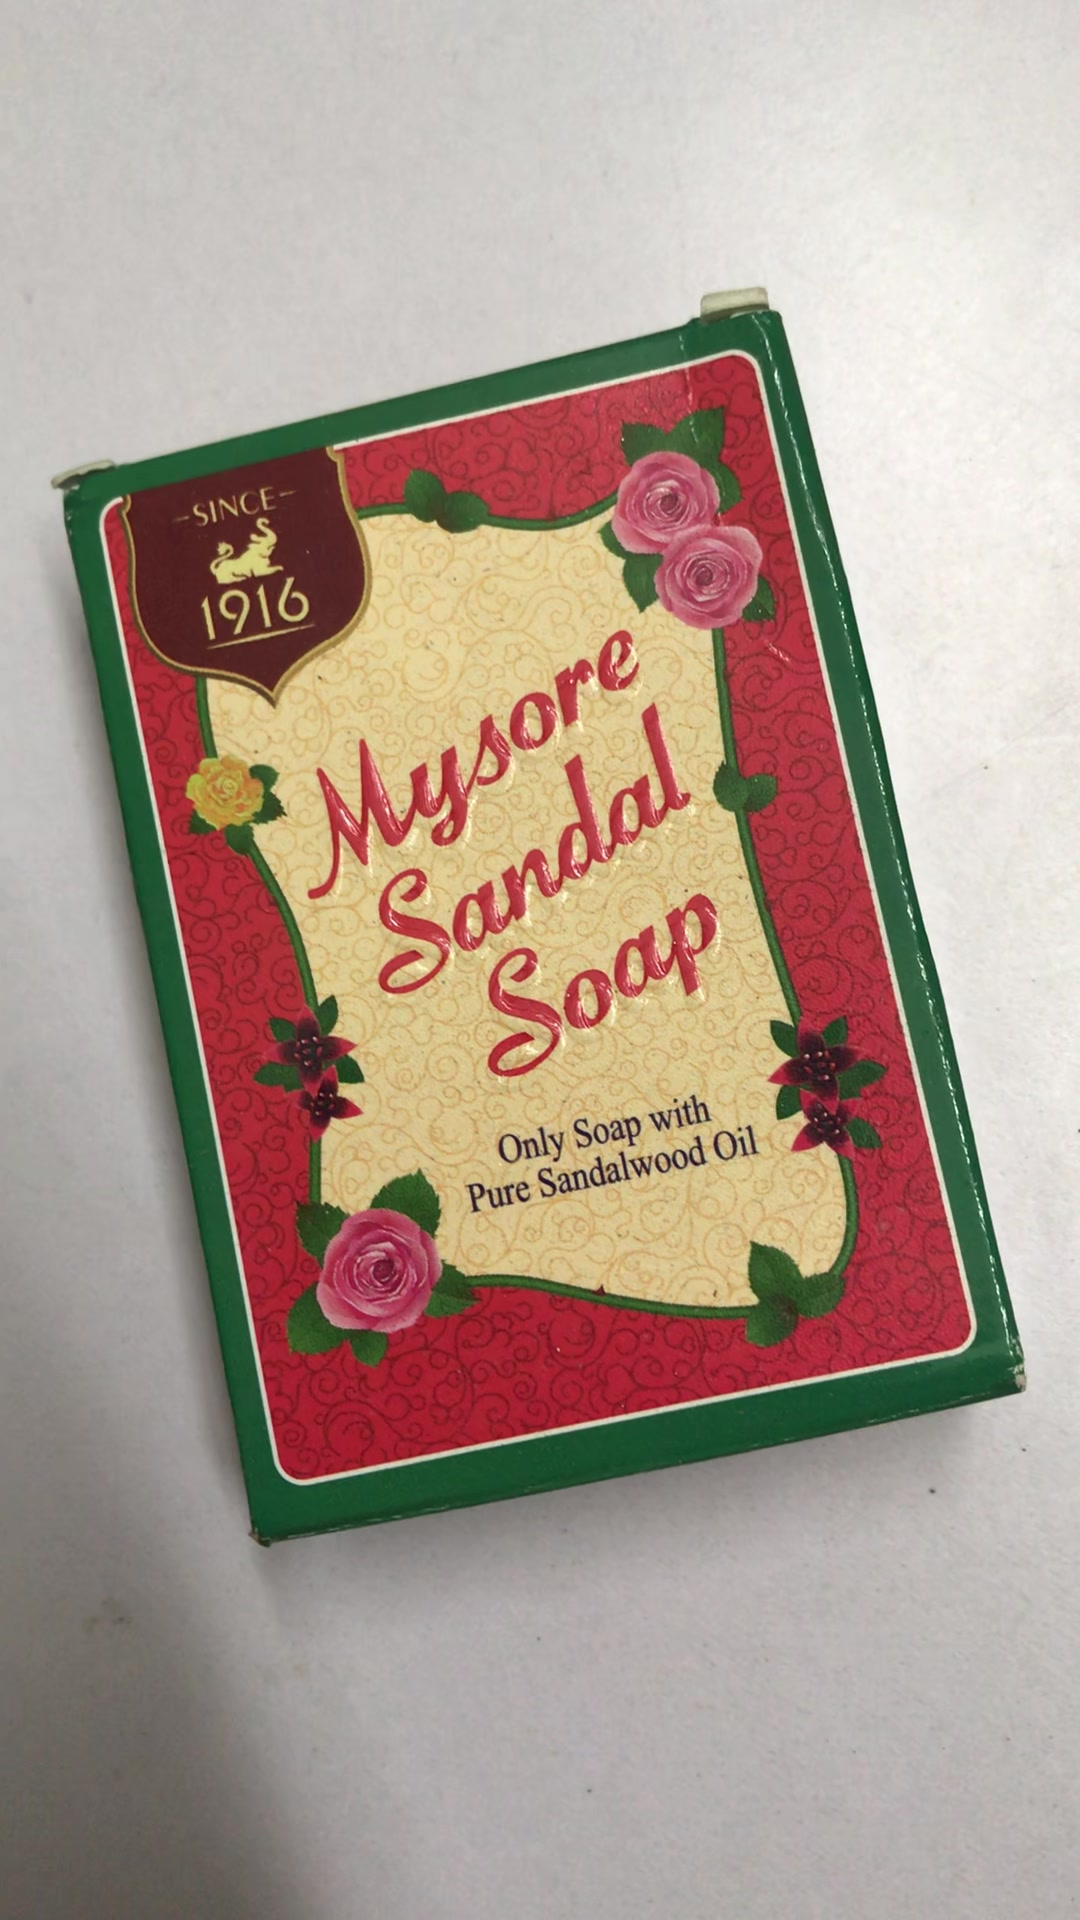mysore sandal soap: (73, 313, 1030, 1545)
